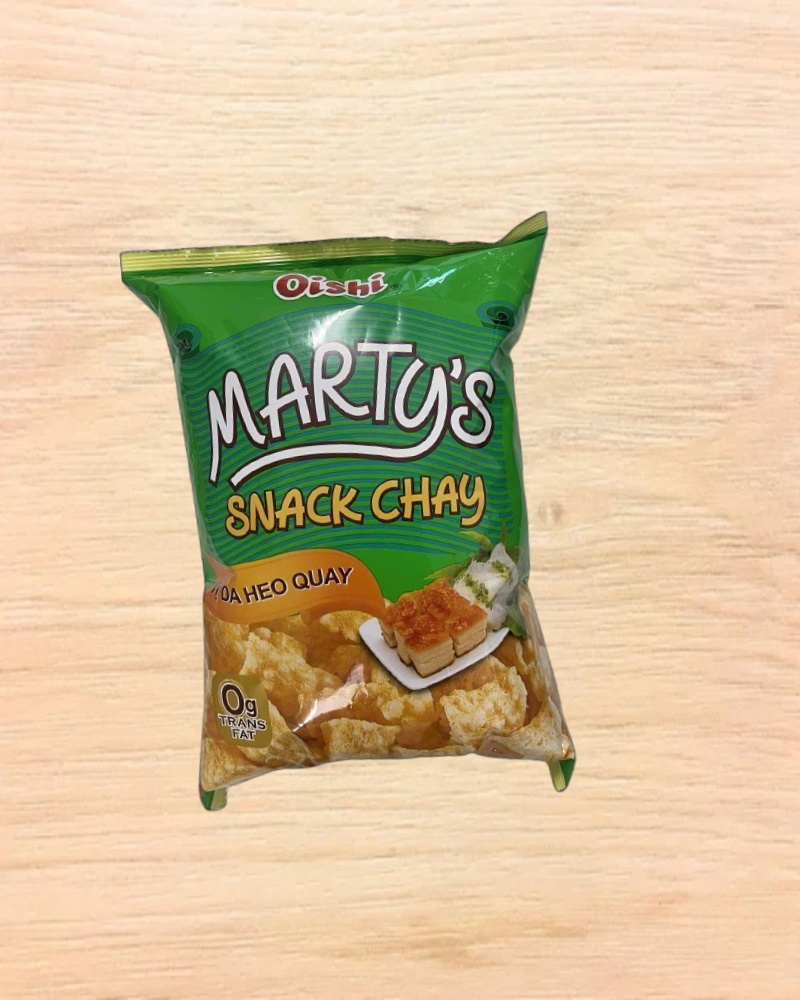Snack chay: (120, 211, 598, 827)
